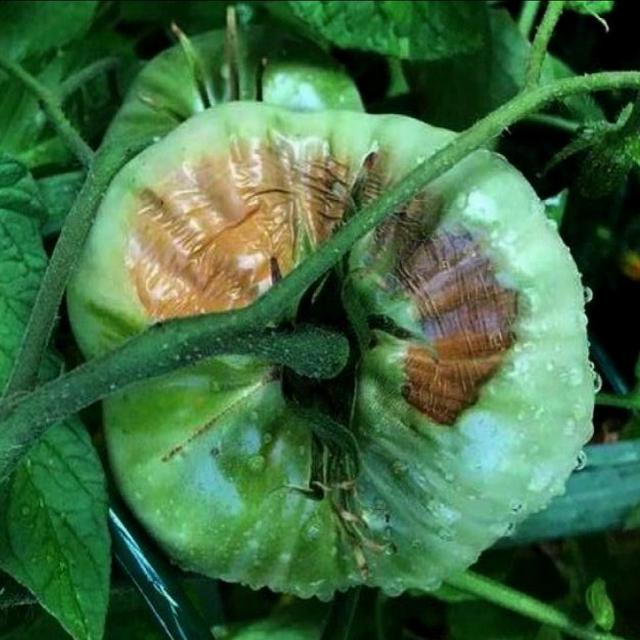Sunscald Fruit: (80, 85, 350, 282)
